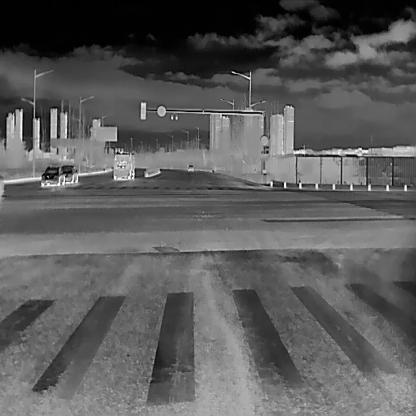car: (40, 165, 65, 187), (60, 163, 78, 183), (186, 163, 193, 171)
truck: (112, 151, 134, 180)
